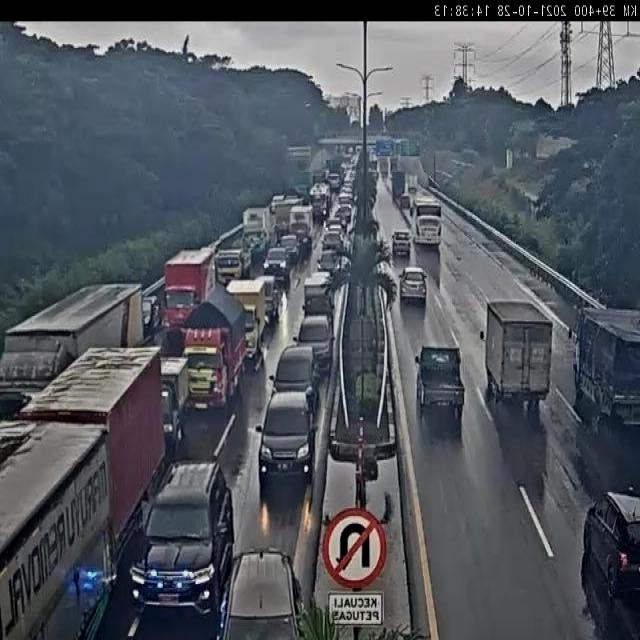Bus: (408, 196, 444, 248)
Car: (128, 454, 236, 623), (218, 547, 308, 640), (581, 484, 640, 598), (256, 390, 317, 483), (269, 344, 319, 414), (295, 314, 333, 378), (252, 274, 282, 315), (399, 266, 428, 305), (263, 245, 288, 281), (278, 234, 300, 264), (321, 228, 343, 255), (391, 229, 412, 257), (318, 249, 340, 275), (399, 193, 412, 210)
Truck: (18, 341, 166, 567), (0, 418, 119, 640), (0, 276, 145, 418), (566, 304, 640, 434), (179, 280, 247, 417), (483, 300, 552, 418), (162, 248, 220, 347), (222, 277, 268, 363), (156, 353, 193, 459), (415, 345, 464, 419), (242, 204, 272, 261), (218, 237, 256, 280), (304, 270, 334, 312), (289, 205, 314, 252), (306, 180, 331, 223), (142, 294, 162, 340), (391, 168, 405, 199), (407, 172, 419, 195)
